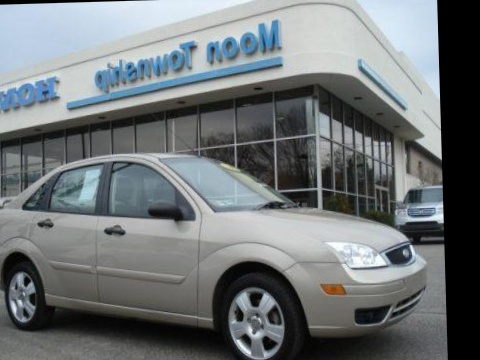car: (184, 115, 413, 277), (394, 176, 444, 241)
